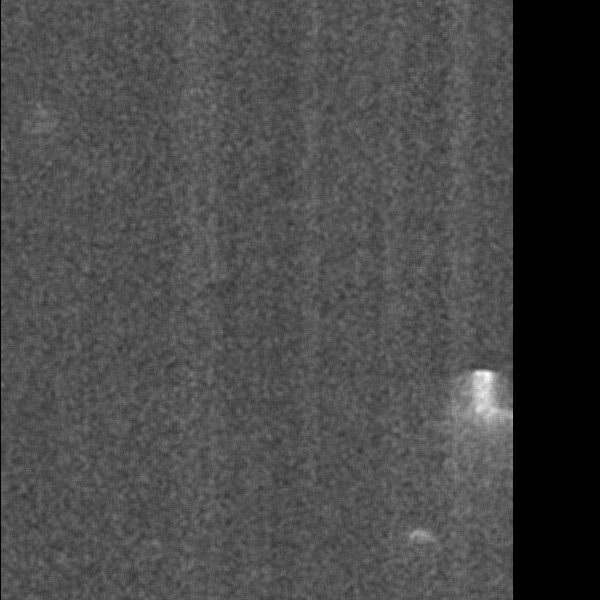spark: (456, 362, 507, 568), (395, 524, 444, 551), (31, 102, 52, 135)
